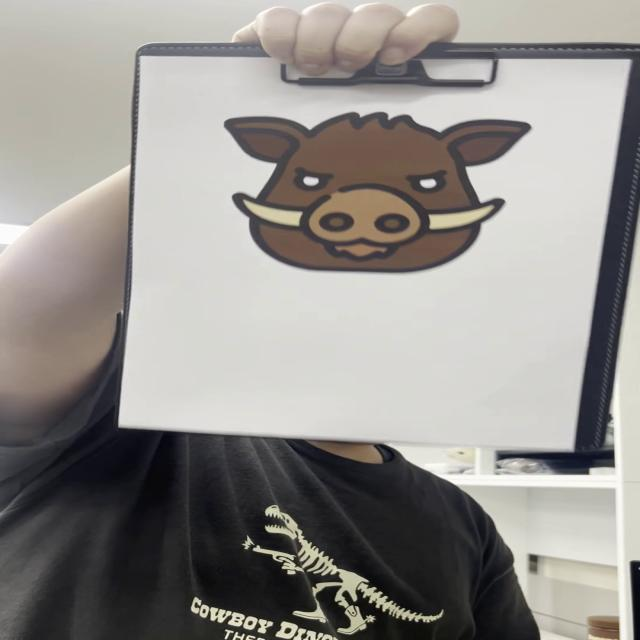animal: (216, 112, 537, 276)
